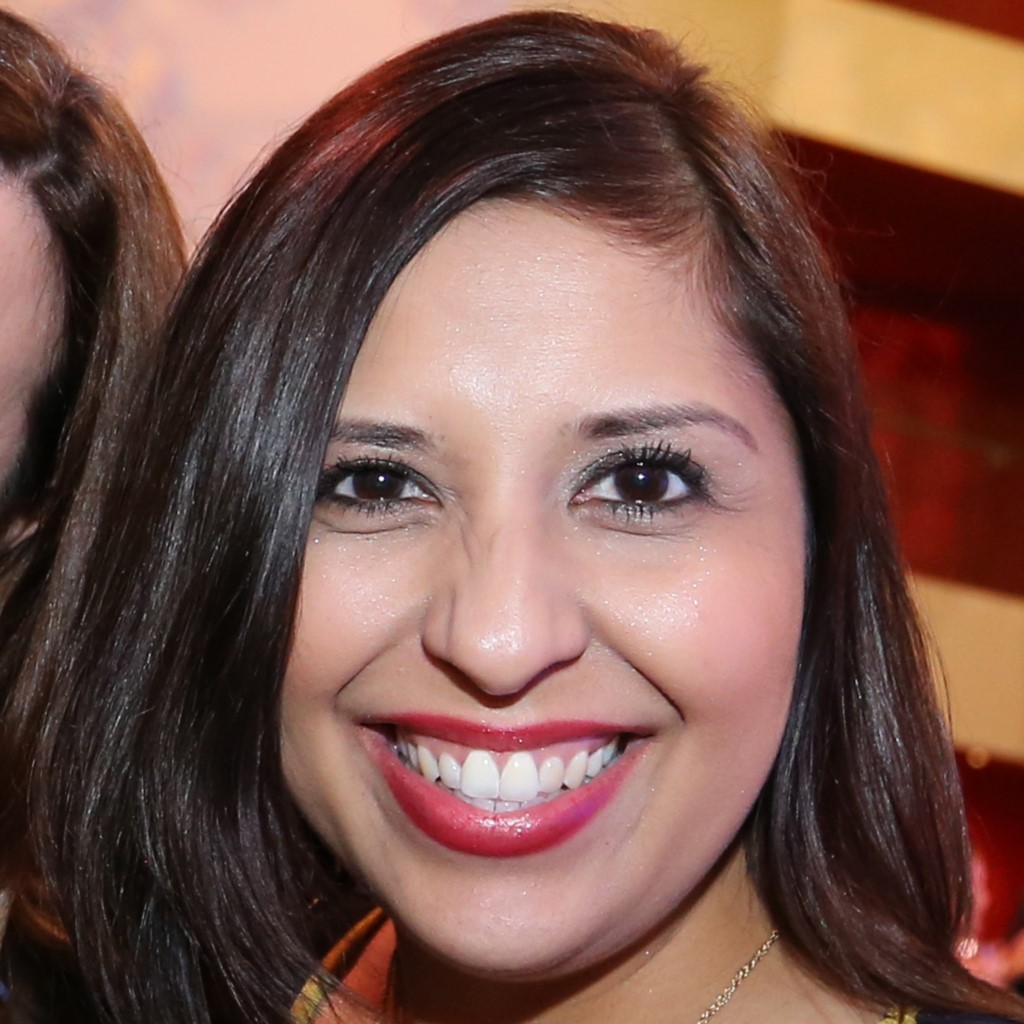sin_mascara: (243, 170, 802, 947)
